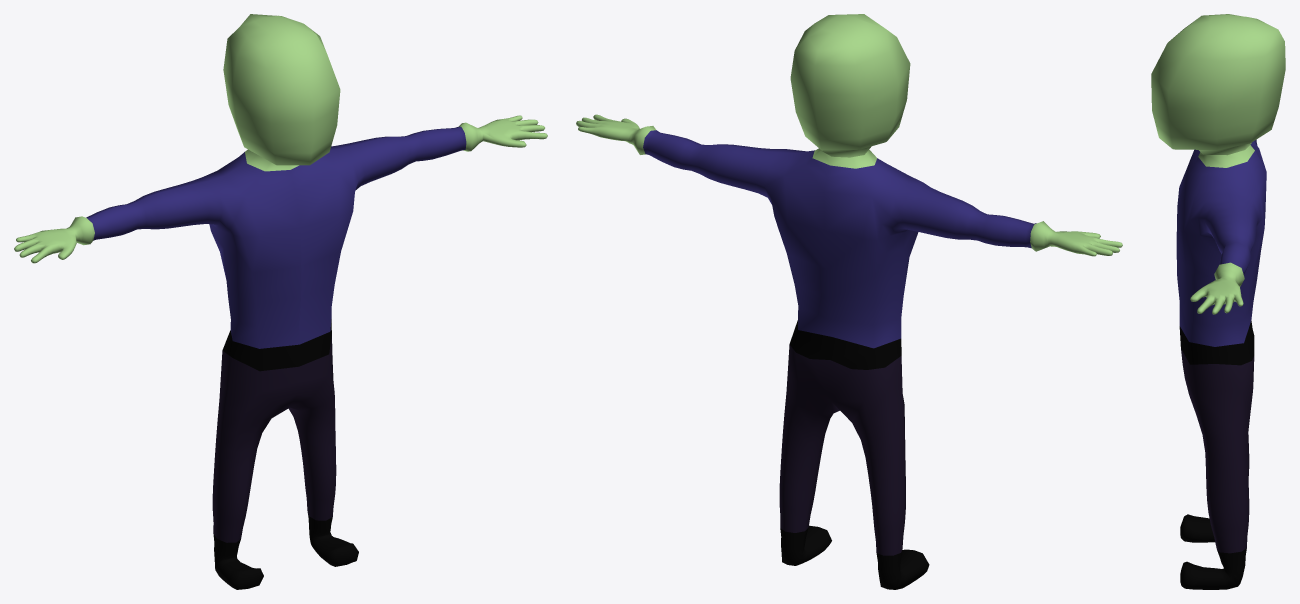
File: Guest2.fbx
3 views of the same model, side by side, from view 1: azimuth 30°, elevation 25°; view 2: azimuth 150°, elevation 25°; view 3: azimuth 270°, elevation 25° (orthographic). The views are drawn at different scales.
Parts seen in each view (by area): view 1: Guest2; view 2: Guest2; view 3: Guest2.
Part boxes in pixels (left/top/right/bottom): Guest2: left=14, top=14, right=547, bottom=589; Guest2: left=576, top=14, right=1122, bottom=589; Guest2: left=1151, top=14, right=1285, bottom=589.
Size of the model in its own units: 177 by 173 by 39.11.
